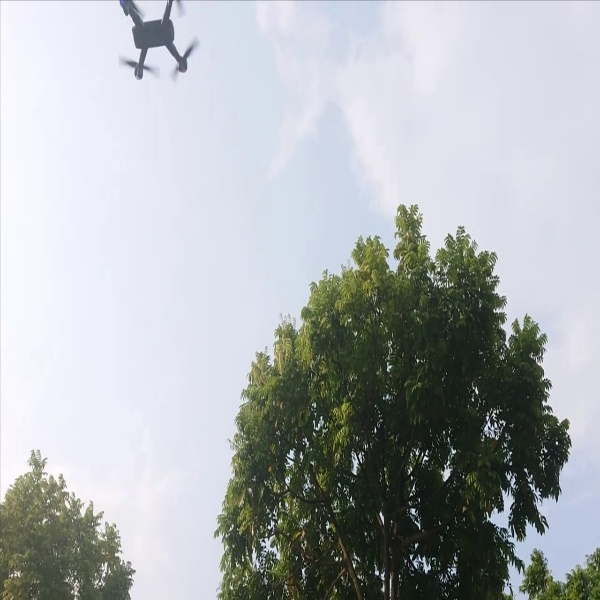drone: (112, 1, 205, 97)
